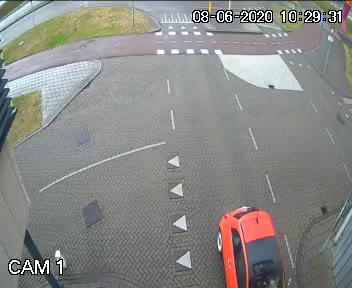car: (207, 193, 299, 288)
